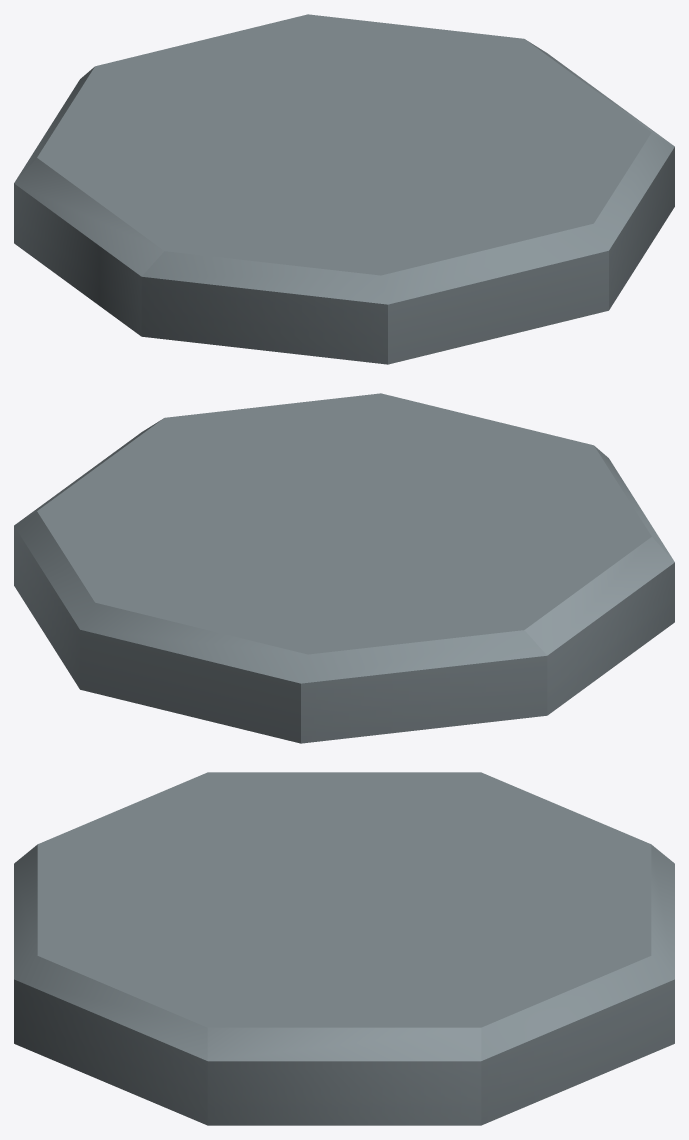
The model's file is roofmodule_base.glb.
3 renders of one model, top to bottom at view 1: azimuth 30°, elevation 25°; view 2: azimuth 150°, elevation 25°; view 3: azimuth 270°, elevation 25°, orthographic. The views are drawn at different scales.
Visible parts, largest first — view 1: roofmodule_base; view 2: roofmodule_base; view 3: roofmodule_base.
Part boxes in pixels (box(x1,y1,x2,y2)): roofmodule_base: box(14, 14, 674, 364); roofmodule_base: box(14, 393, 674, 743); roofmodule_base: box(14, 772, 674, 1125).
Size of the model in its own units: 4.19 by 0.5999 by 4.19.
1 material, 1 textured.
